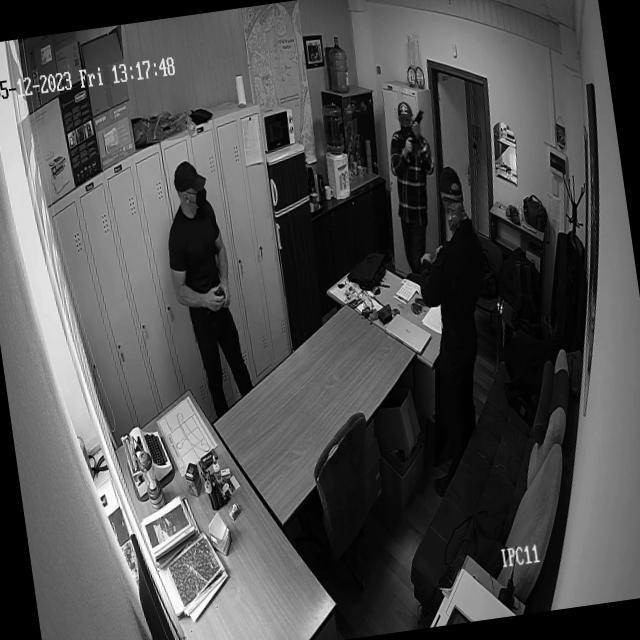gun: (401, 108, 430, 156)
person: (391, 160, 516, 501), (154, 153, 258, 424)
person with a gun: (382, 99, 449, 275)
